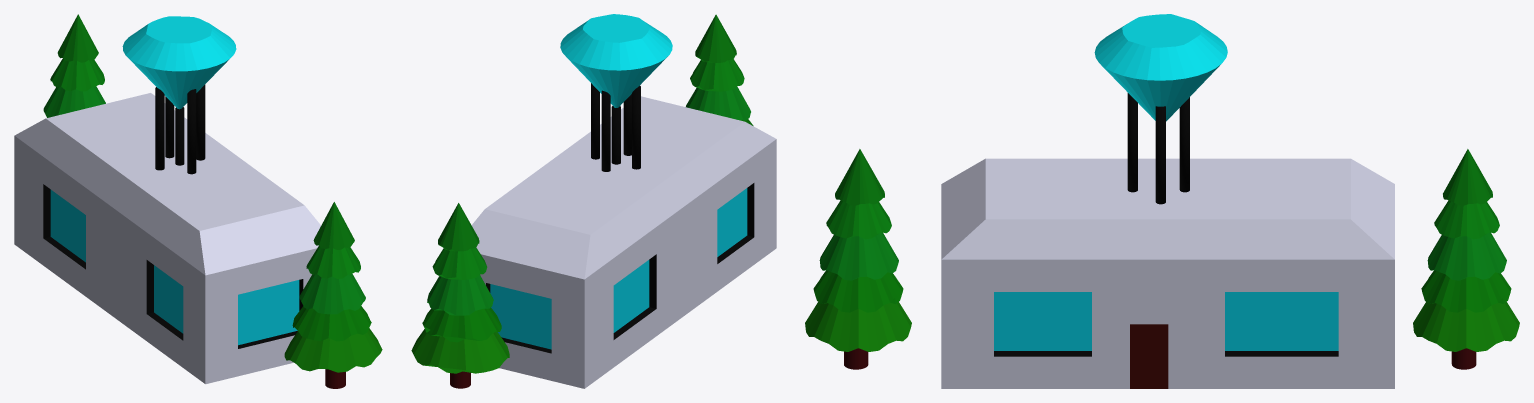
The model's file is jewlery store .fbx.
3 views of the same model, side by side, from view 1: azimuth 30°, elevation 25°; view 2: azimuth 150°, elevation 25°; view 3: azimuth 270°, elevation 25° (orthographic). The views are drawn at different scales.
Parts seen in each view (by area): view 1: Cube, Cylinder, Cone.007, Cone.006, Cone.005, Cone.001, Cone.009, Cone.004, Cone.002, Cone.008, Cylinder.006, Cylinder.004 (+4 smaller); view 2: Cube, Cylinder, Cone.003, Cone.004, Cone.010, Cone.006, Cone.001, Cone.009, Cone.002, Cone.008, Cylinder.005, Cylinder.004 (+4 smaller); view 3: Cube, Cylinder, Cone.007, Cone.003, Cone.006, Cone.004, Cone.005, Cone.010, Cone.009, Cone.001, Cone.008, Cone.002 (+3 smaller).
Part boxes in pixels (box(x1,y1,x2,y2)): Cube: box(14, 93, 320, 384); Cylinder: box(122, 16, 236, 109); Cone.007: box(284, 328, 382, 372); Cone.006: box(299, 273, 365, 314); Cone.005: box(292, 306, 371, 341); Cone.001: box(50, 58, 104, 91); Cone.009: box(306, 246, 360, 278); Cone.004: box(43, 86, 105, 117); Cone.002: box(57, 14, 98, 62); Cone.008: box(313, 202, 354, 249); Cylinder.006: box(187, 89, 196, 174); Cylinder.004: box(155, 87, 164, 170); Cube: box(471, 96, 776, 388); Cylinder: box(560, 14, 672, 107); Cone.003: box(411, 329, 509, 373); Cone.004: box(427, 274, 493, 315); Cone.010: box(422, 307, 501, 342); Cone.006: box(686, 86, 750, 120); Cone.001: box(432, 247, 487, 279); Cone.009: box(690, 59, 744, 91); Cone.002: box(438, 203, 479, 251); Cone.008: box(695, 14, 736, 62); Cylinder.005: box(601, 90, 610, 171); Cylinder.004: box(632, 86, 640, 169); Cube: box(941, 158, 1394, 388); Cylinder: box(1094, 14, 1227, 121); Cone.007: box(805, 302, 911, 351); Cone.003: box(1413, 302, 1519, 351); Cone.006: box(819, 232, 898, 280); Cone.004: box(1427, 232, 1506, 280); Cone.005: box(813, 270, 903, 312); Cone.010: box(1421, 270, 1511, 312); Cone.009: box(826, 200, 891, 239); Cone.001: box(1434, 200, 1499, 239); Cone.008: box(835, 149, 884, 205); Cone.002: box(1443, 149, 1492, 205).
Size of the model in its own units: 2861 by 5401 by 10902.
